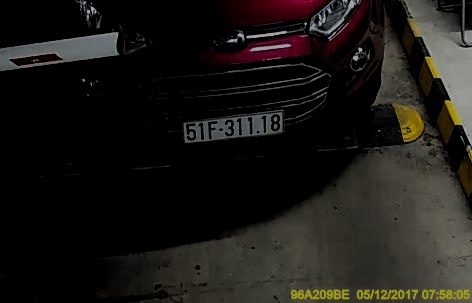plate: (180, 113, 288, 146)
